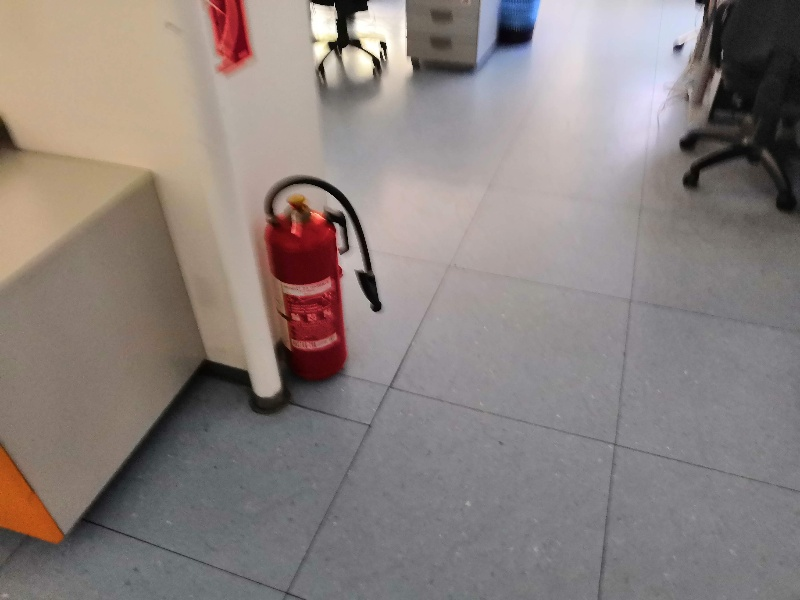vataparat: (262, 175, 383, 381)
